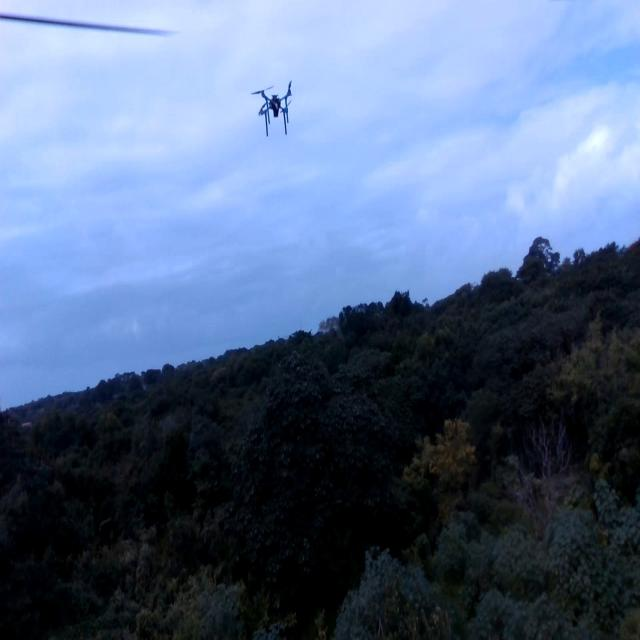-uav-: (248, 74, 308, 154)
